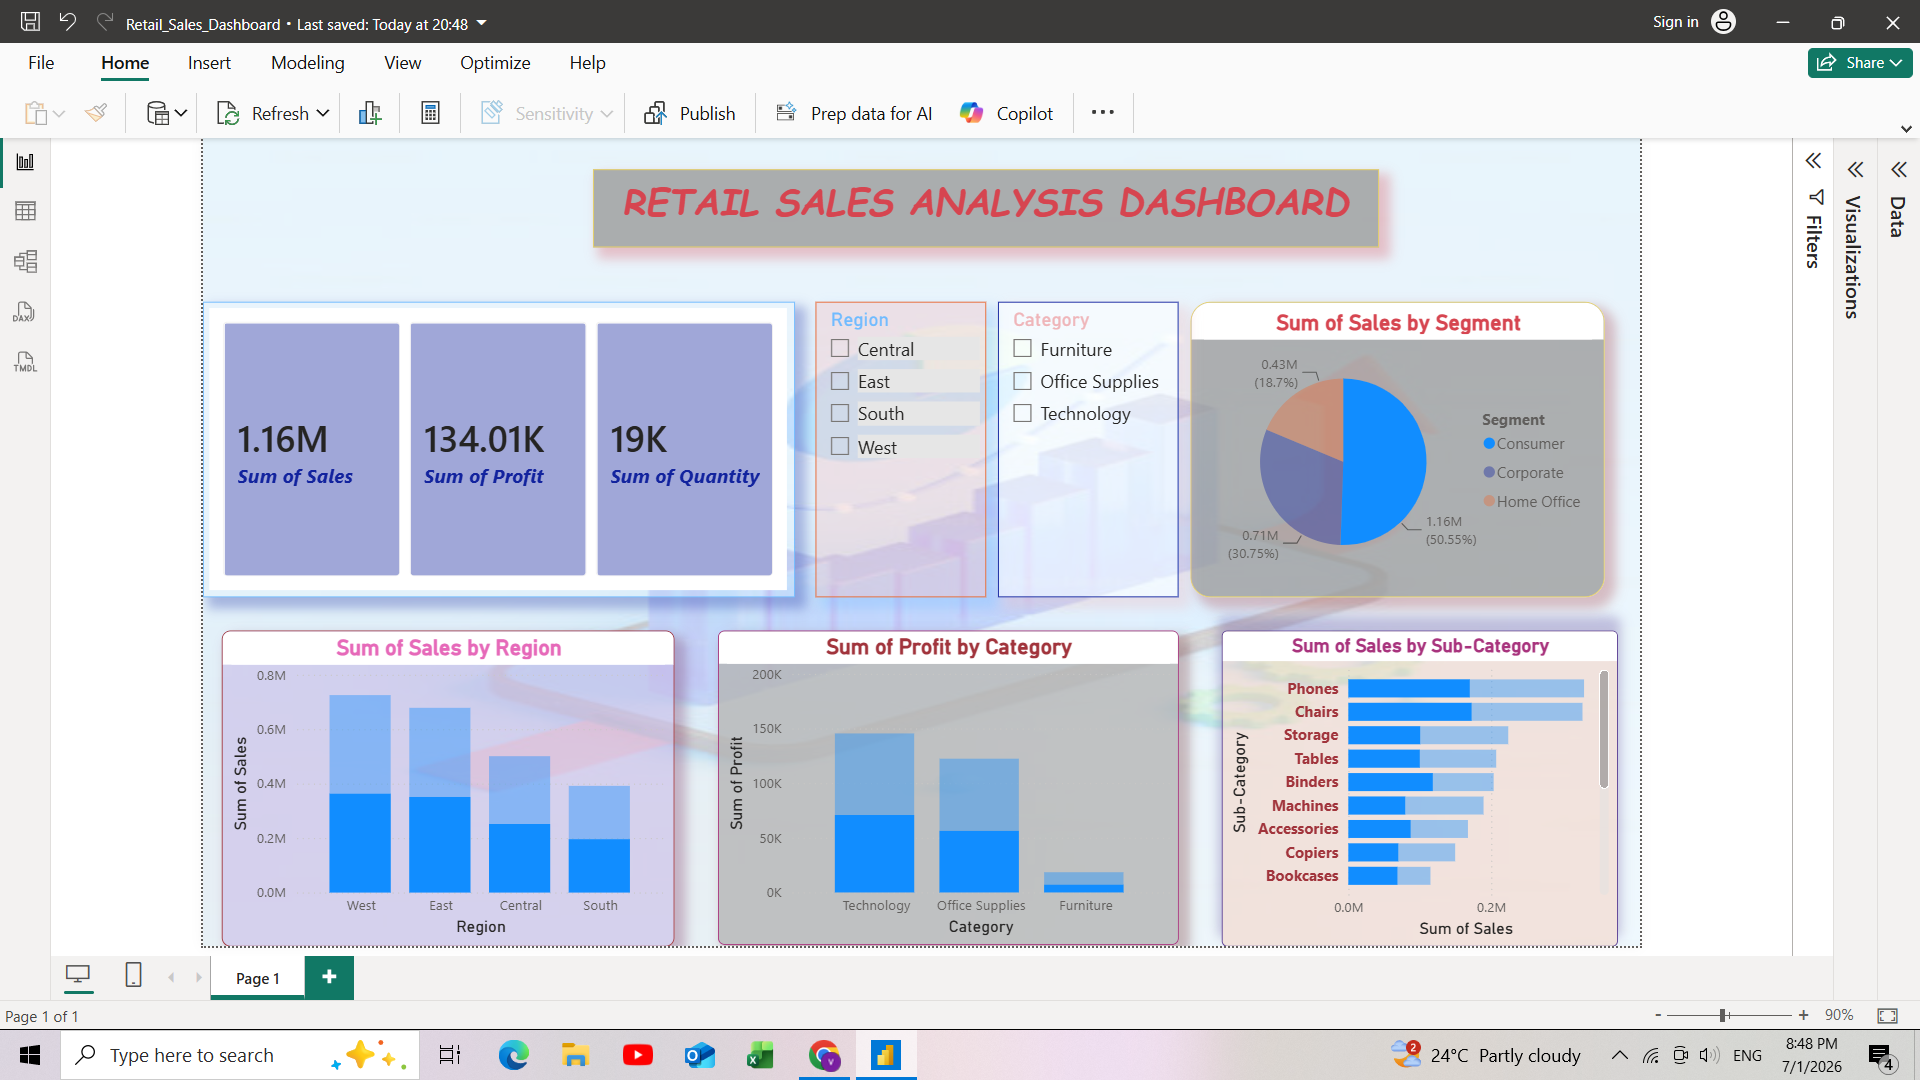

What the dashboard file says about the page in this screenshot:
{"tool":"powerbi","page":{"name":"Page 1","canvas":[1280,720],"ordinal":0},"visuals":[{"type":"cardVisual","fields":{"Data":["Sum(Cleaned_Retail_Sales_Data xlsx.Sales)","Sum(Cleaned_Retail_Sales_Data xlsx.Profit)","Sum(Cleaned_Retail_Sales_Data xlsx.Quantity)"]},"box":[0,145.5,526.9,263.5],"z":0},{"type":"clusteredColumnChart","fields":{"Category":["Cleaned_Retail_Sales_Data xlsx.Region"],"Y":["Sum(Cleaned_Retail_Sales_Data xlsx.Sales)"]},"box":[16.5,439.1,403.4,281.3],"z":1000},{"type":"clusteredColumnChart","fields":{"Category":["Cleaned_Retail_Sales_Data xlsx.Category"],"Y":["Sum(Cleaned_Retail_Sales_Data xlsx.Profit)"]},"box":[458.3,439.1,410.3,280],"z":2000},{"type":"pieChart","fields":{"Category":["Cleaned_Retail_Sales_Data xlsx.Segment"],"Y":["Sum(Cleaned_Retail_Sales_Data xlsx.Sales)"]},"box":[879.6,145.5,369.1,263.5],"z":3000},{"type":"clusteredBarChart","fields":{"Category":["Cleaned_Retail_Sales_Data xlsx.Sub-Category"],"Y":["Sum(Cleaned_Retail_Sales_Data xlsx.Sales)"]},"box":[907,439.1,352.7,281.3],"z":4000},{"type":"slicer","fields":{"Values":["Cleaned_Retail_Sales_Data xlsx.Region"]},"box":[545.3,146,152,263],"z":5000},{"type":"slicer","fields":{"Values":["Cleaned_Retail_Sales_Data xlsx.Category"]},"box":[708.2,146,160.5,263],"z":6000},{"type":"textbox","box":[347.2,27.4,699.8,70],"z":7000}]}

Visuals, with their boxes on the page's 1280x720 design canvas (x1, y1, x2, y2). These are canvas units, not pixel positions in the 1920x1080 screenshot, which may show the page scaled, cropped or inside an application window:
cardVisual - Sum(Cleaned_Retail_Sales_Data xlsx.Sales) x Sum(Cleaned_Retail_Sales_Data xlsx.Profit): x1=0 y1=146 x2=527 y2=409
clusteredColumnChart - Cleaned_Retail_Sales_Data xlsx.Region x Sum(Cleaned_Retail_Sales_Data xlsx.Sales): x1=16 y1=439 x2=420 y2=720
clusteredColumnChart - Cleaned_Retail_Sales_Data xlsx.Category x Sum(Cleaned_Retail_Sales_Data xlsx.Profit): x1=458 y1=439 x2=869 y2=719
pieChart - Cleaned_Retail_Sales_Data xlsx.Segment x Sum(Cleaned_Retail_Sales_Data xlsx.Sales): x1=880 y1=146 x2=1249 y2=409
clusteredBarChart - Cleaned_Retail_Sales_Data xlsx.Sub-Category x Sum(Cleaned_Retail_Sales_Data xlsx.Sales): x1=907 y1=439 x2=1260 y2=720
slicer - Cleaned_Retail_Sales_Data xlsx.Region: x1=545 y1=146 x2=697 y2=409
slicer - Cleaned_Retail_Sales_Data xlsx.Category: x1=708 y1=146 x2=869 y2=409
textbox: x1=347 y1=27 x2=1047 y2=97
